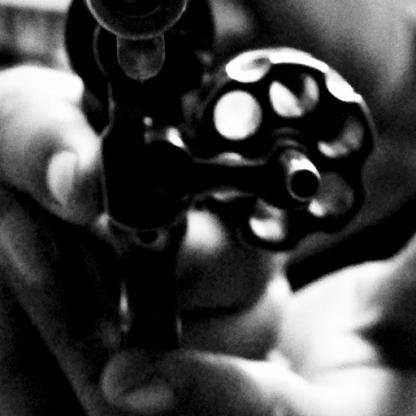gun: (60, 0, 379, 358)
